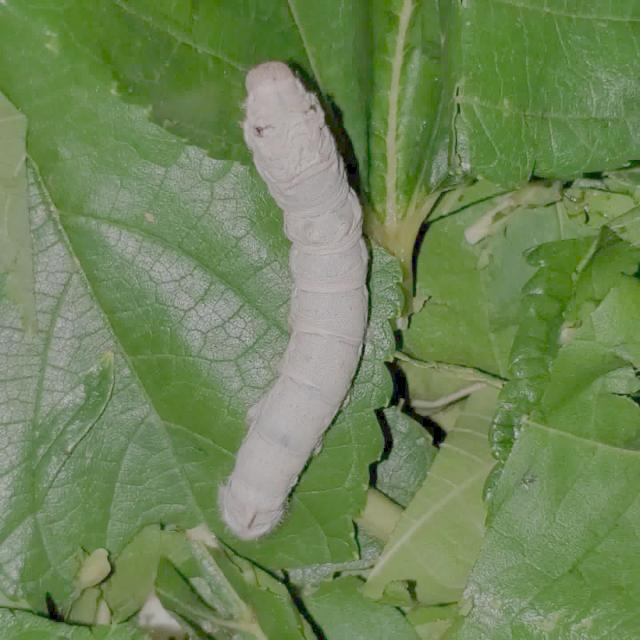Healthy: (193, 45, 399, 567)
